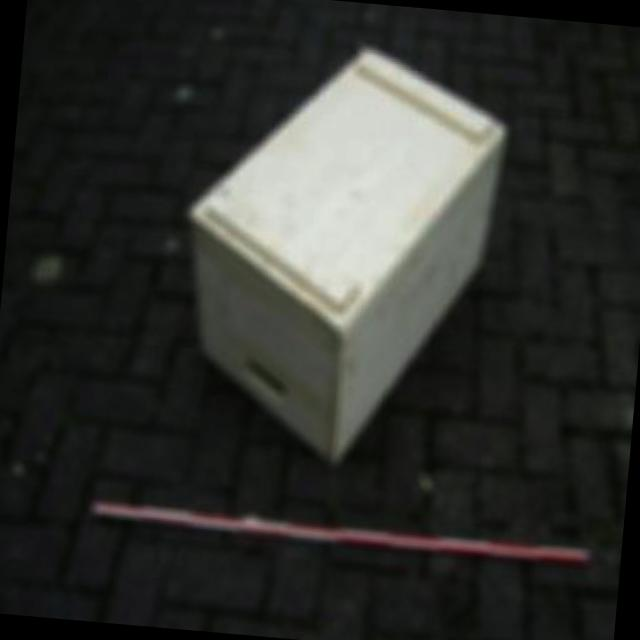box: (148, 32, 544, 510)
